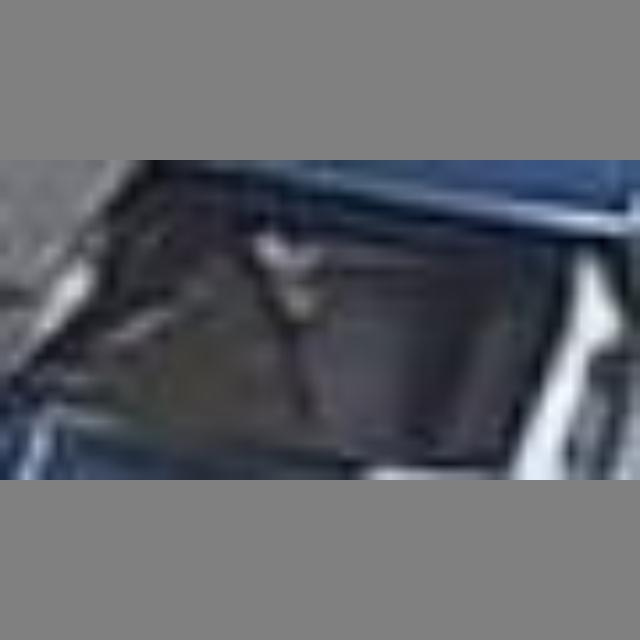pakai: (160, 256, 405, 427)
